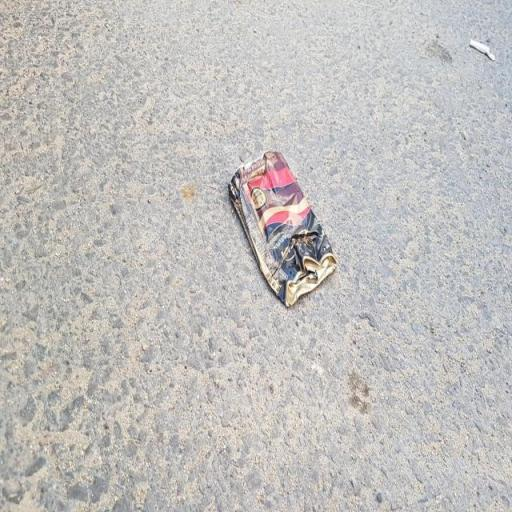metal: (224, 120, 340, 358)
